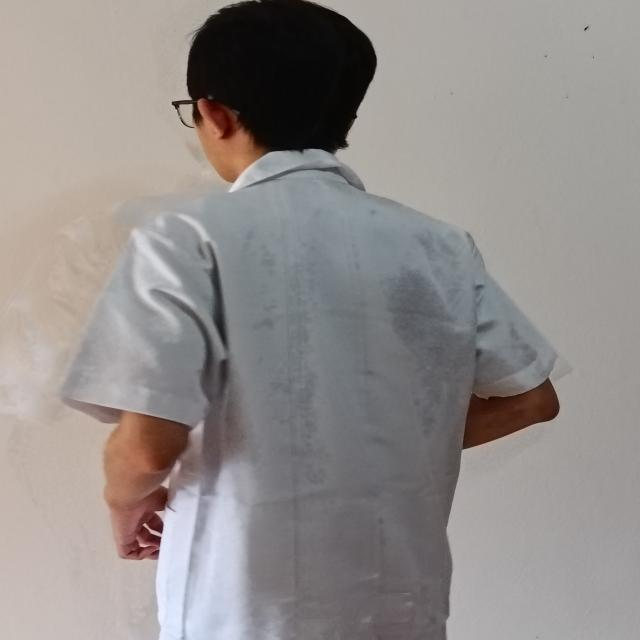person_with_labcoat: (60, 0, 559, 640)
